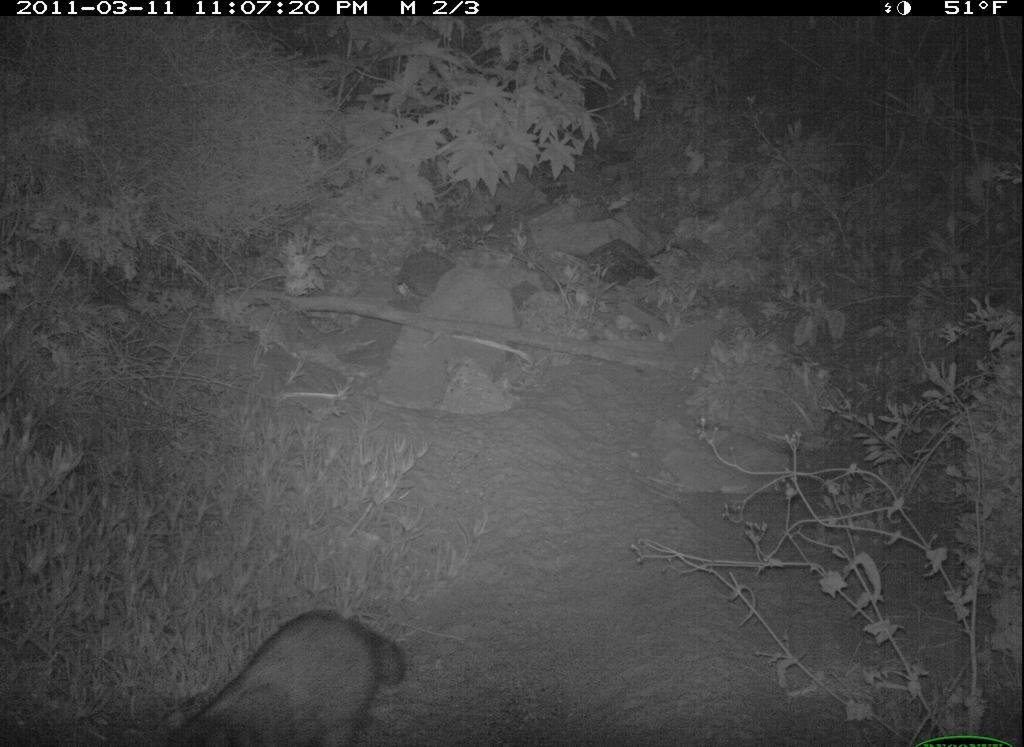raccoon: (148, 603, 411, 747)
